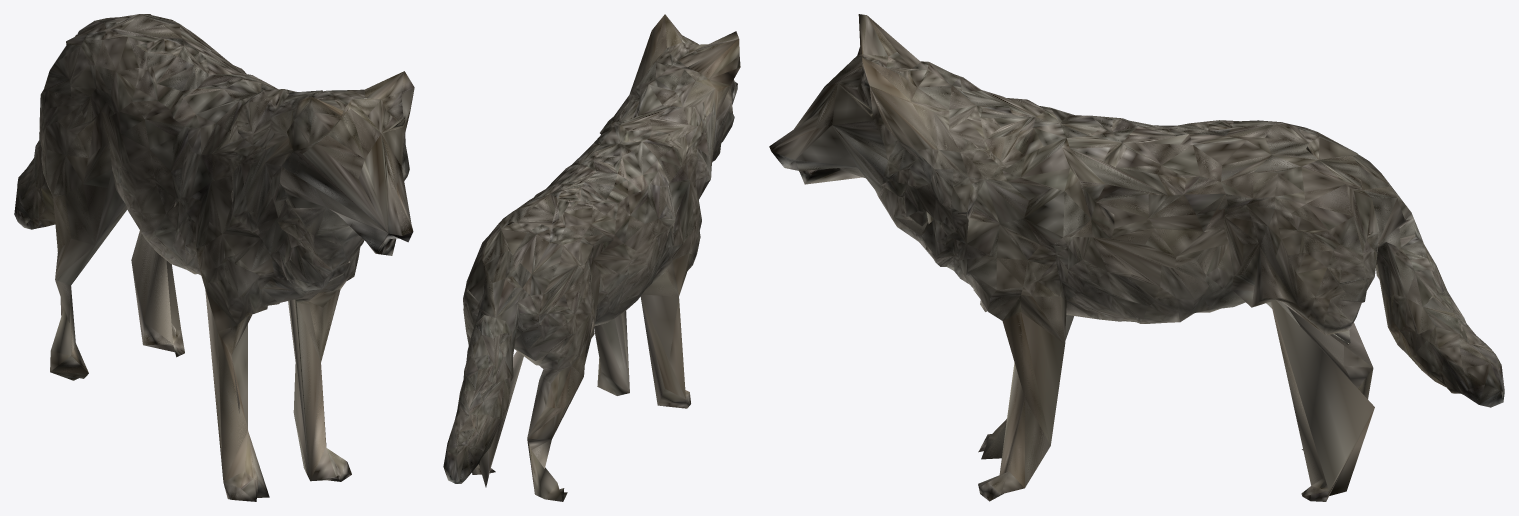
File: wolf.glb
3 views of the same model, side by side, from view 1: azimuth 30°, elevation 25°; view 2: azimuth 150°, elevation 25°; view 3: azimuth 270°, elevation 25° (orthographic). The views are drawn at different scales.
Bounding box in the file's own units: 0.443 × 1.25 × 1.91.
1 material, 1 textured.
